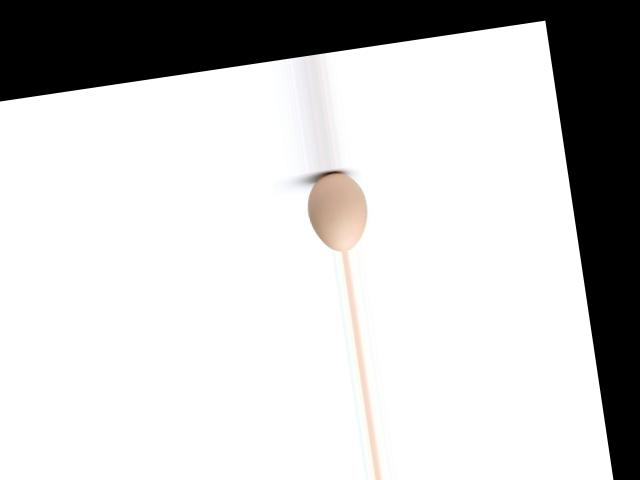egg: (303, 167, 373, 255)
